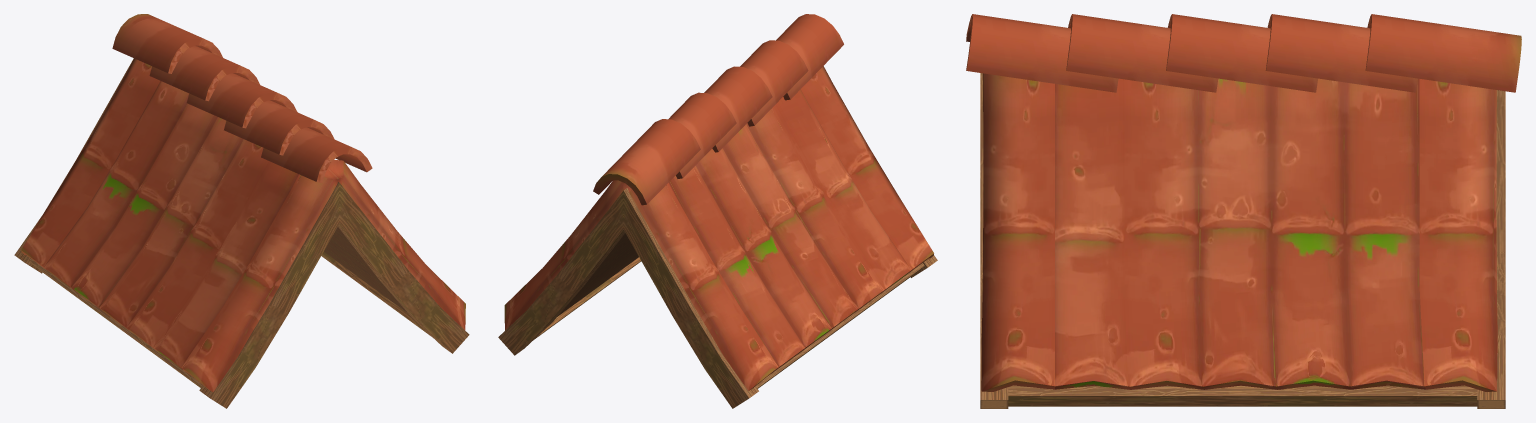
The model's file is Roof_2x4_RoundTile.glb.
3 views of the same model, side by side, from view 1: azimuth 30°, elevation 25°; view 2: azimuth 150°, elevation 25°; view 3: azimuth 270°, elevation 25° (orthographic). The views are drawn at different scales.
Visible parts, largest first — view 1: Roof_2x4_RoundTile; view 2: Roof_2x4_RoundTile; view 3: Roof_2x4_RoundTile.
Boxes of the visible parts, x1,y1,x2,y2 form: Roof_2x4_RoundTile: [14, 14, 469, 408]; Roof_2x4_RoundTile: [498, 14, 937, 408]; Roof_2x4_RoundTile: [966, 14, 1521, 408].
Size of the model in its own units: 3.29 by 2.67 by 4.23.
2 materials, 2 textured.
